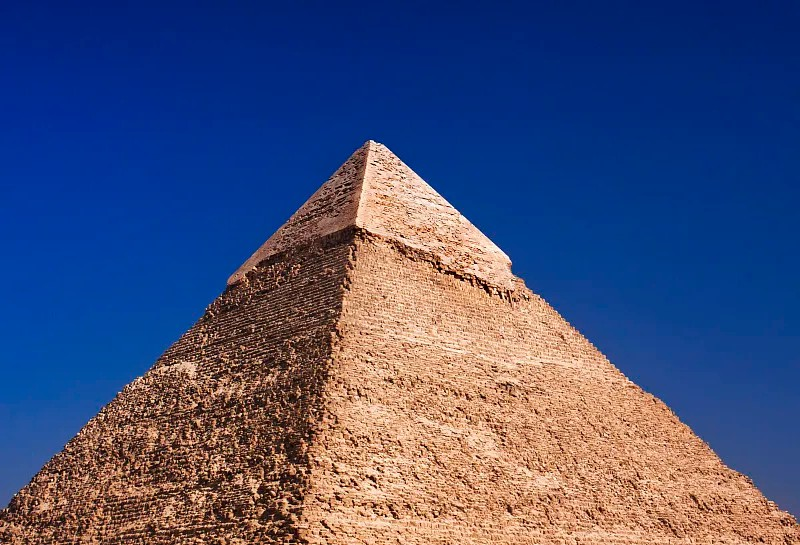Pyramid: (1, 139, 800, 545)
